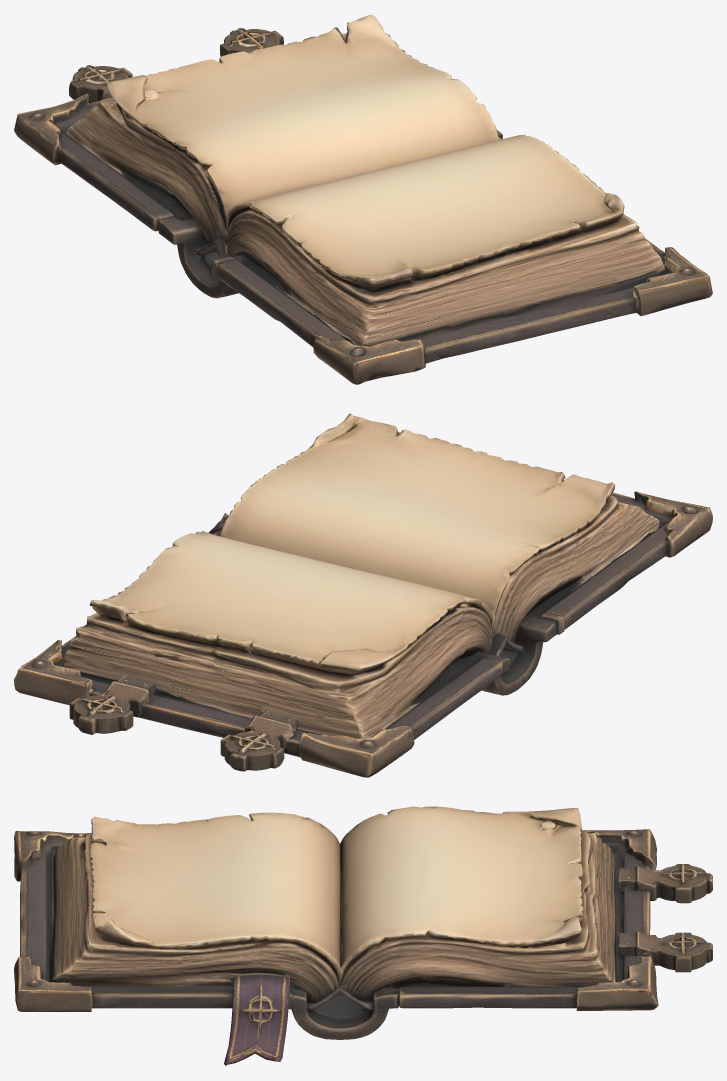
File: livre.fbx
The picture shows the model from 3 angles, top to bottom: view 1: azimuth 30°, elevation 25°; view 2: azimuth 150°, elevation 25°; view 3: azimuth 270°, elevation 25°; orthographic projection. The views are drawn at different scales.
Visible parts, largest first — view 1: tripo_node_3135a56f; view 2: tripo_node_3135a56f; view 3: tripo_node_3135a56f.
Boxes of the visible parts, left/top/right/bottom form: tripo_node_3135a56f: left=14, top=14, right=712, bottom=384; tripo_node_3135a56f: left=14, top=413, right=712, bottom=777; tripo_node_3135a56f: left=14, top=806, right=712, bottom=1065.
Size of the model in its own units: 0.6066 by 0.1681 by 0.9811.
